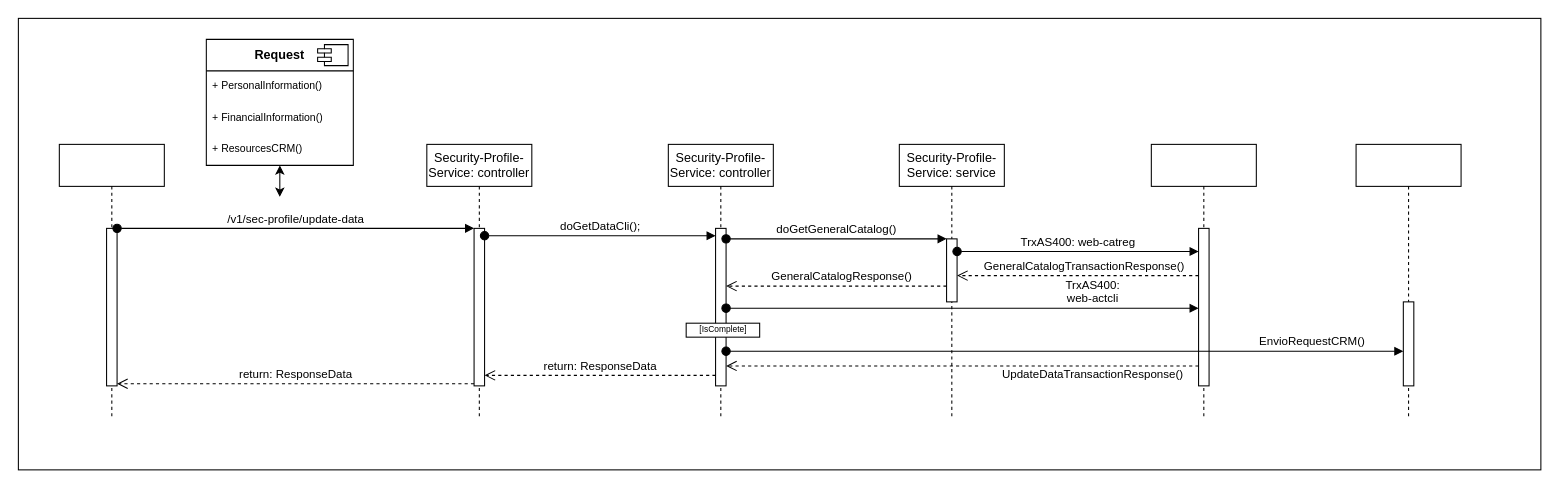
Some shapes in this 1559 by 488 pixel diagram are drawn without their labels. The shapes that lost their labels are listed below. From the top down, each one's box as (x1, y1, x2, y2) in pixels, then its label:
(58, 143, 164, 417): apiGateway
(1150, 143, 1256, 417): AS400
(1355, 143, 1461, 417): CRM
